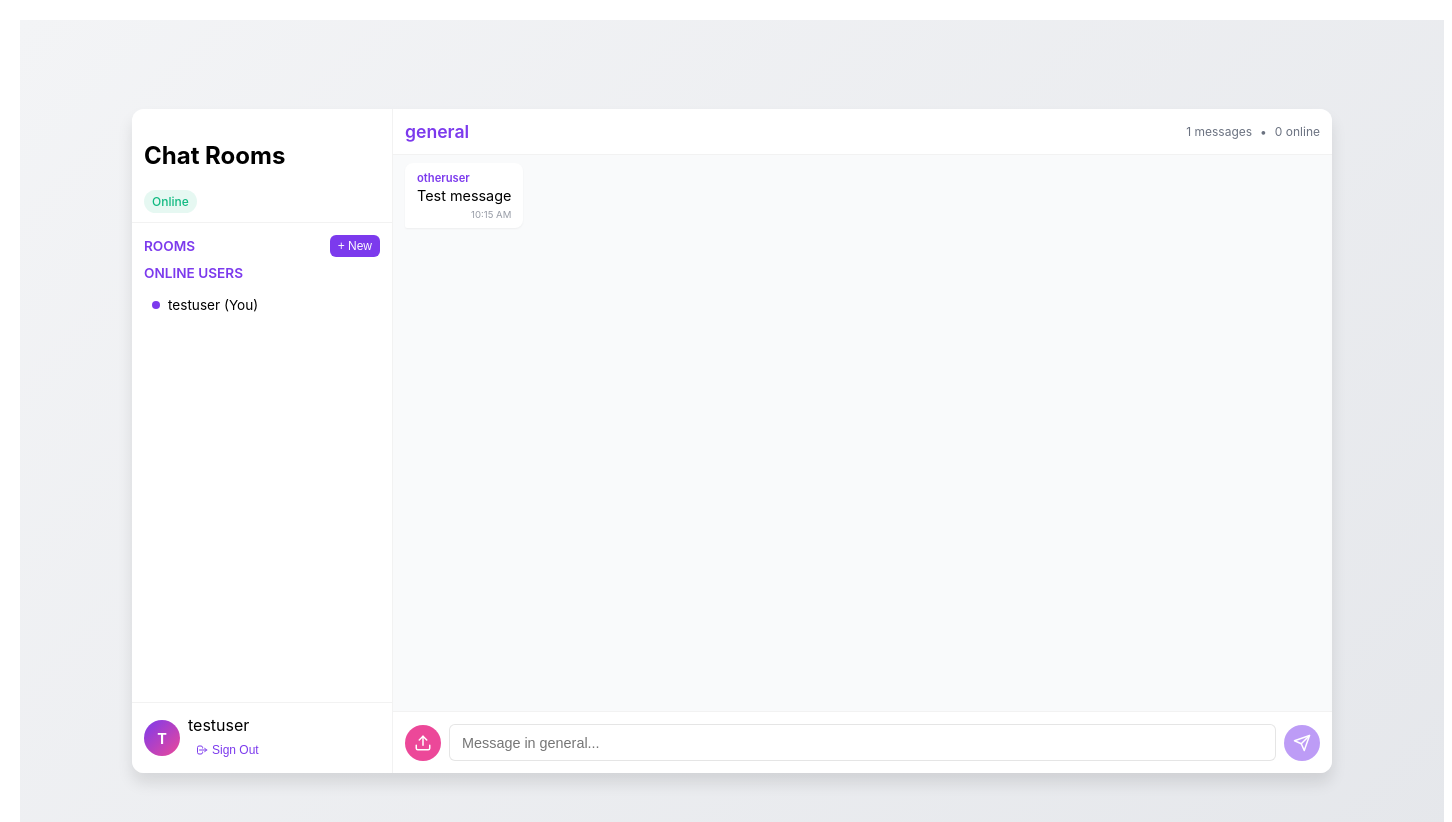
Test: ChatPage Component › should show context menu on message right-click
Right-click the text "Test message" at (464, 196), box [417,186,511,205]
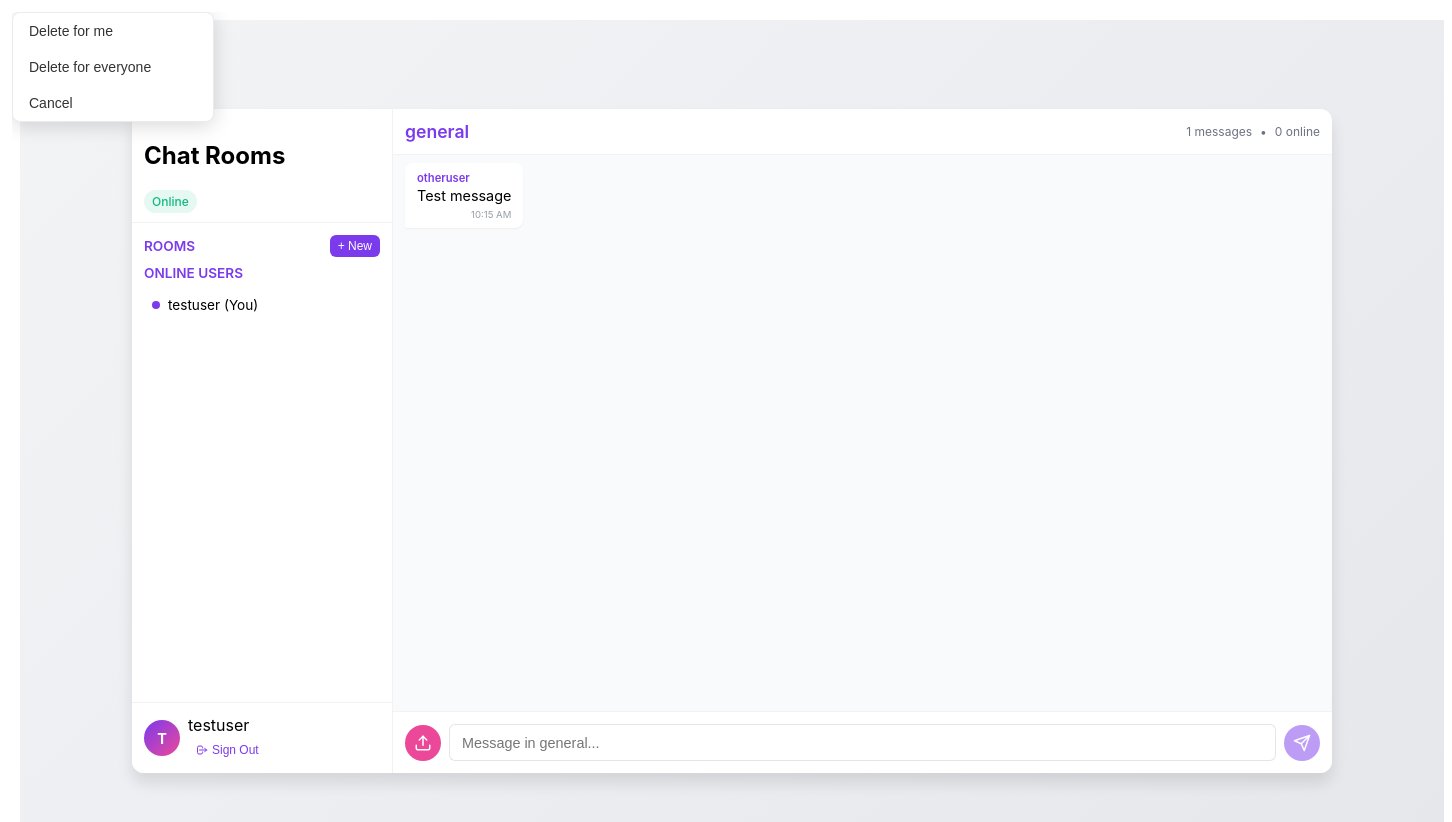
Expected: the button "Delete for me" is shown, [13,13,213,49]
Expected: the button "Delete for everyone" is shown, [13,49,213,85]
